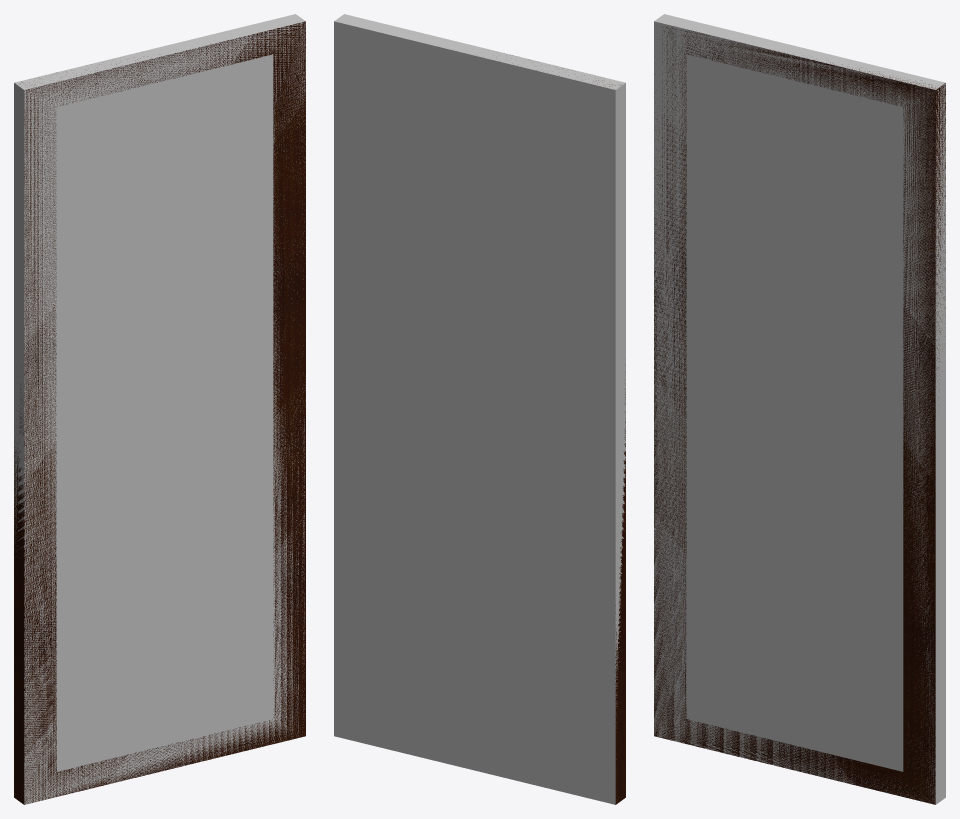
Rendered from painting_03.DAE.
The picture shows the model from 3 angles, left to right: view 1: azimuth 30°, elevation 25°; view 2: azimuth 150°, elevation 25°; view 3: azimuth 330°, elevation 25°; orthographic projection.
Parts seen in each view (by area): view 1: bounds, painting_three100; view 2: bounds, painting_three100; view 3: bounds, painting_three100.
Boxes of the visible parts, x1,y1,x2,y2 form: bounds: [14, 14, 305, 804]; painting_three100: [14, 21, 305, 804]; bounds: [334, 14, 625, 804]; painting_three100: [529, 59, 625, 804]; bounds: [654, 14, 945, 804]; painting_three100: [654, 26, 945, 804].
Bounding box in the file's own units: 70.4 × 4.35 × 171.
